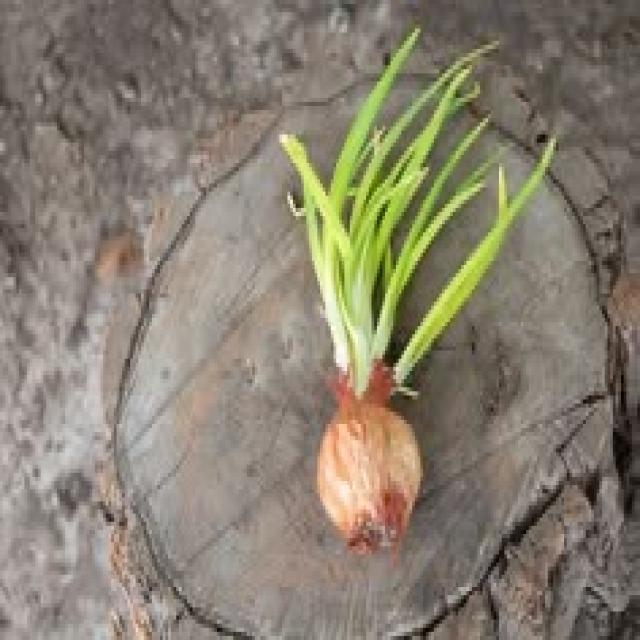sprouting: (268, 92, 505, 568)
